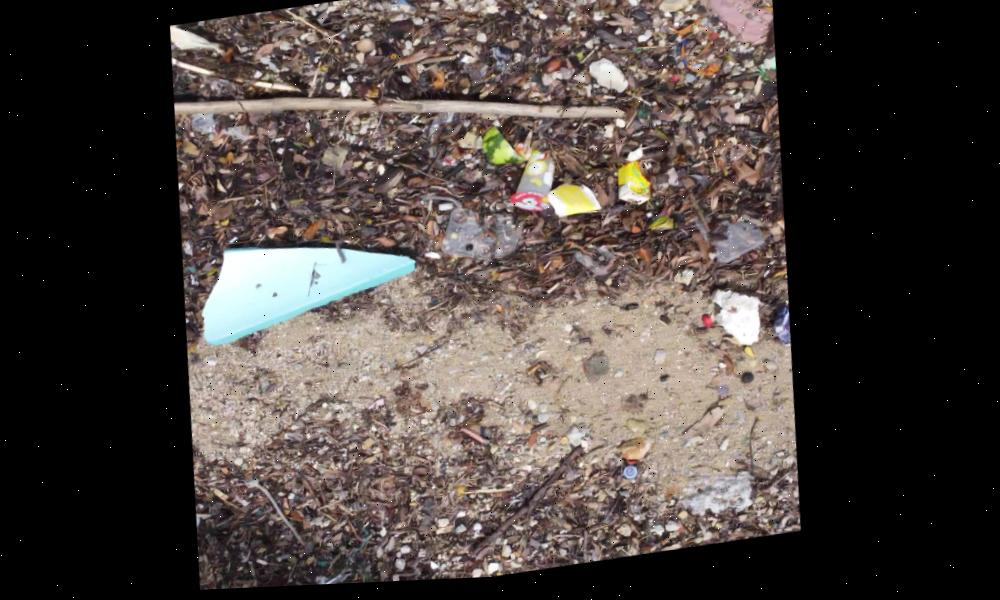carton: (548, 183, 600, 224)
plastic bottle: (507, 152, 562, 219)
